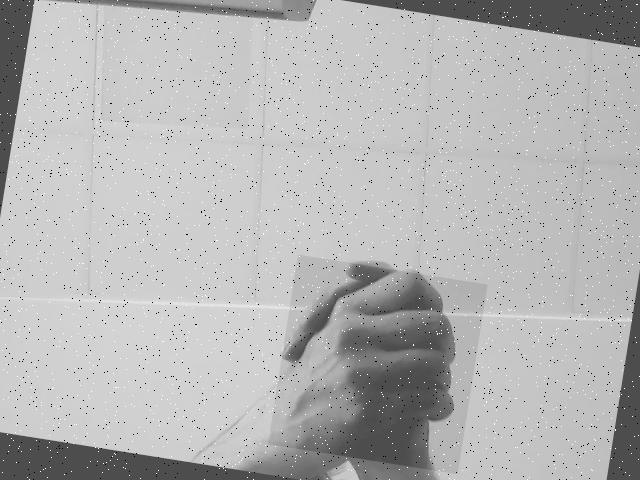friend: (267, 255, 487, 474)
